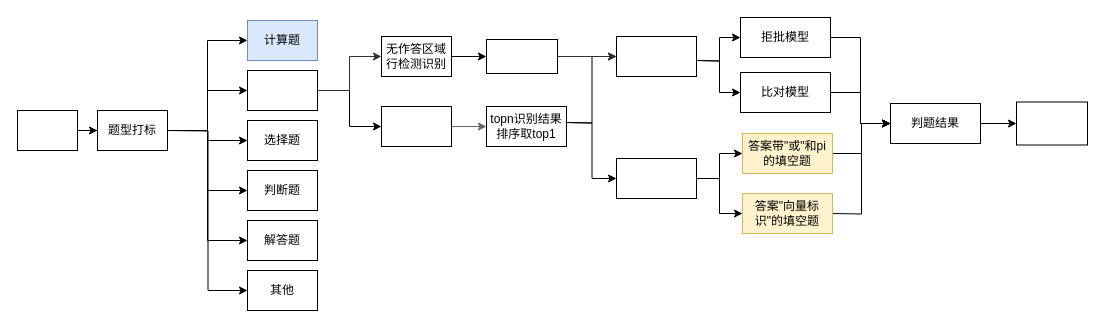
This 1105x328 diagram has some shape labels left out. Each missing label, with the centre of its shape:
单题: point (47, 130)
后处理 (用于回显): point (1052, 123)
填空题: point (282, 90)
有作答区域 一体化识别: point (416, 126)
模型比对: point (656, 56)
规则比对: point (656, 178)
识别处理: point (522, 56)
